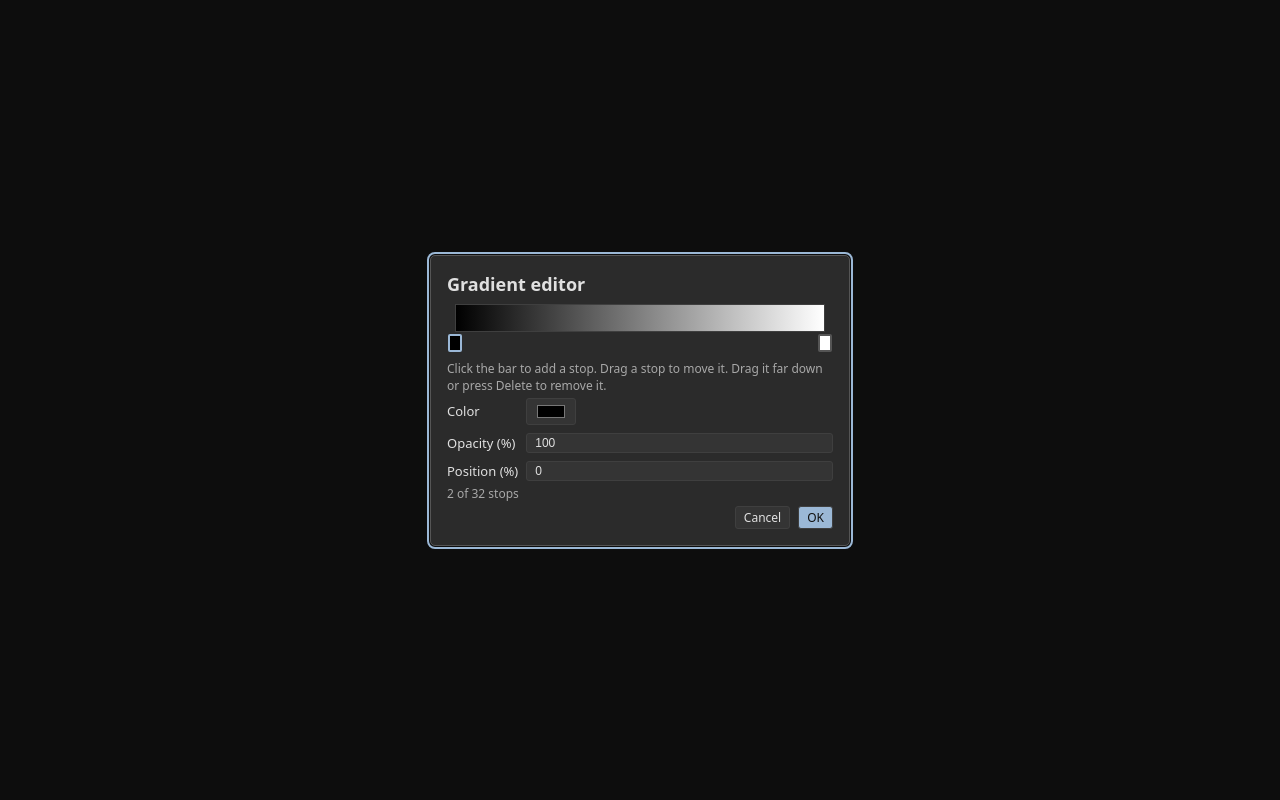
gradient editor dialog › a click on the bar adds a stop and selects it
Press the mouse on the element with test id "gradient-track": (640, 330) 455,304 -> 825,356
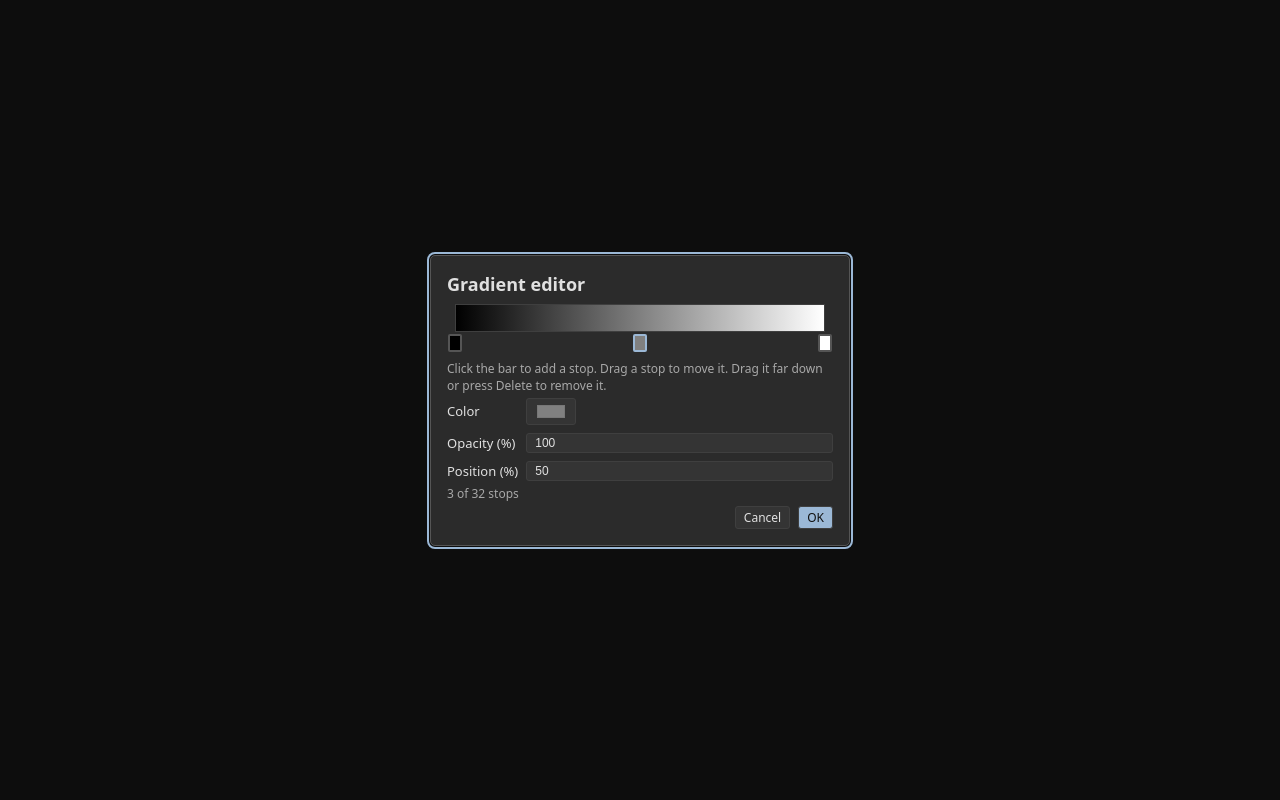
Check: the number of buttons with test id "gradient-stop" is 3, box 448,334 -> 462,352; 633,334 -> 647,352; 818,334 -> 832,352
Check: the number field labelled "Position (%)" holds "50", box 526,460 -> 833,480
